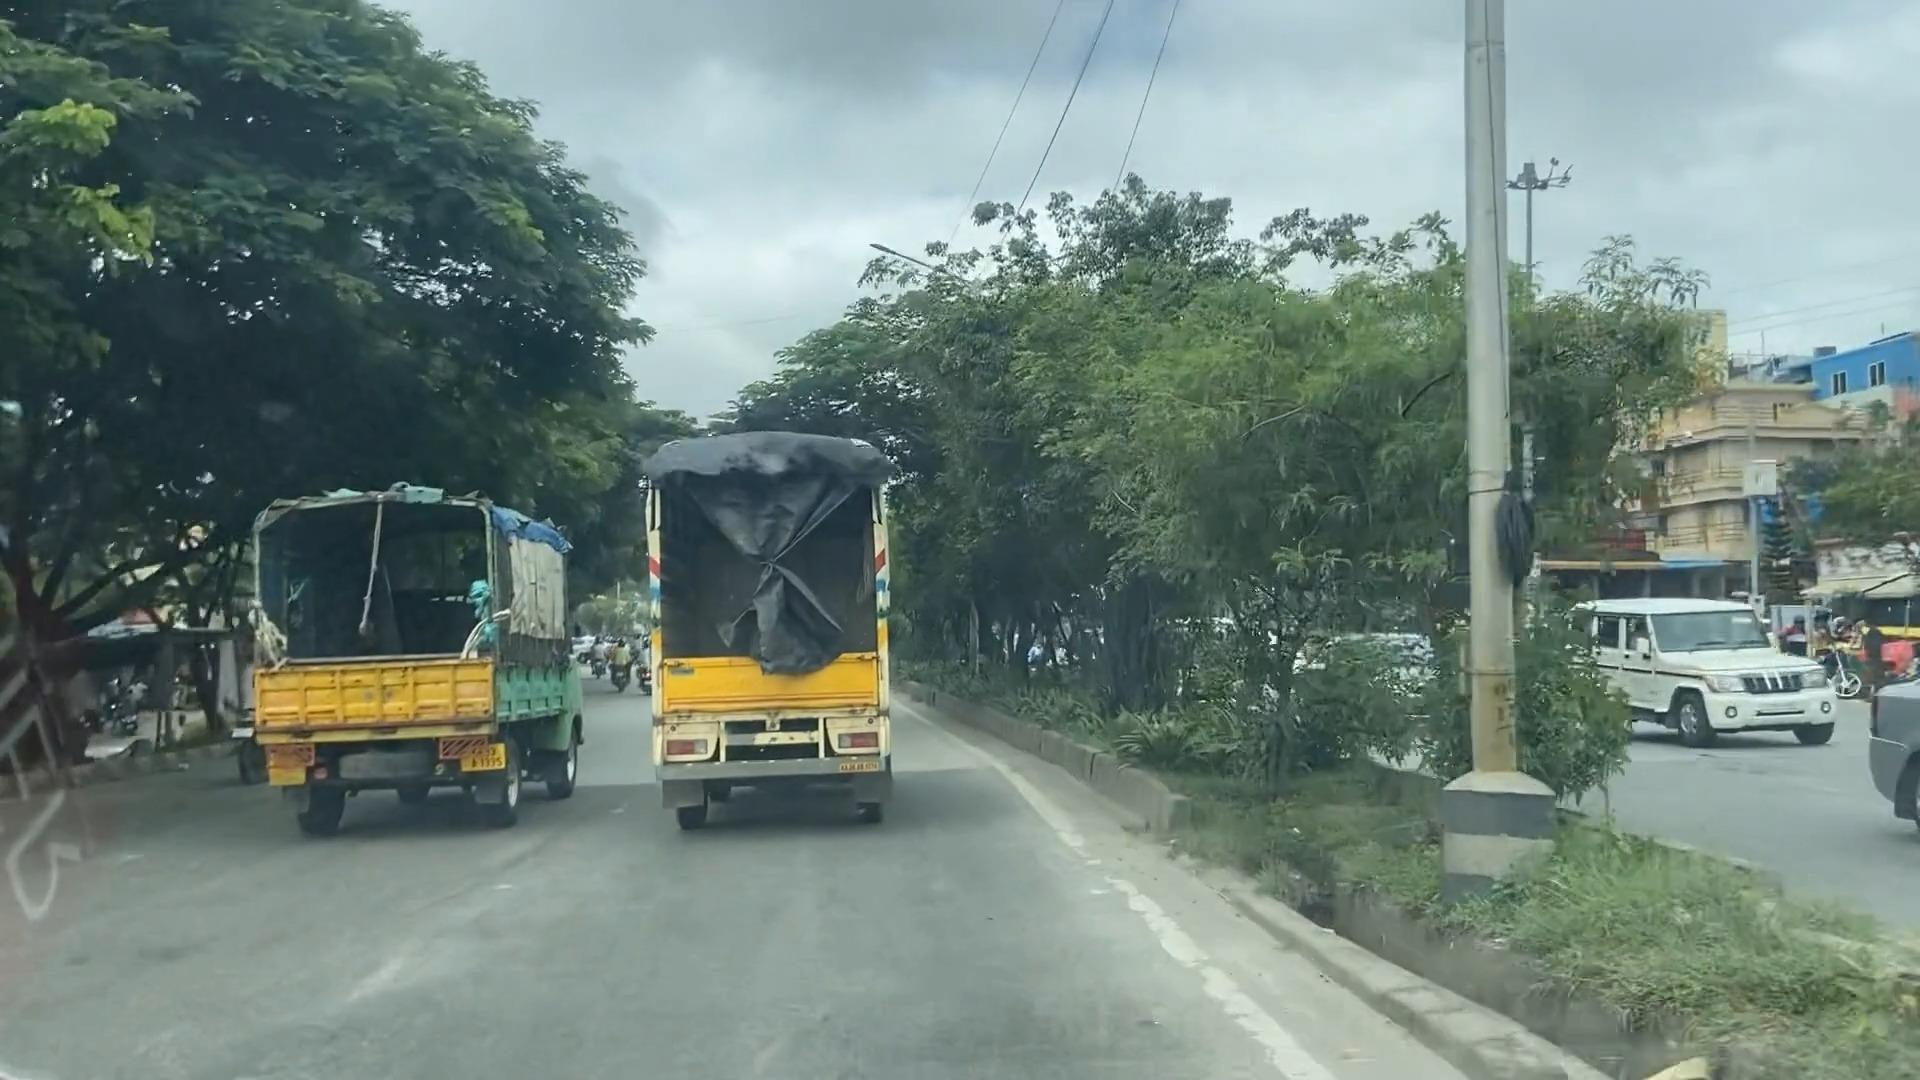HMV: (570, 377, 915, 902), (243, 477, 609, 857)
